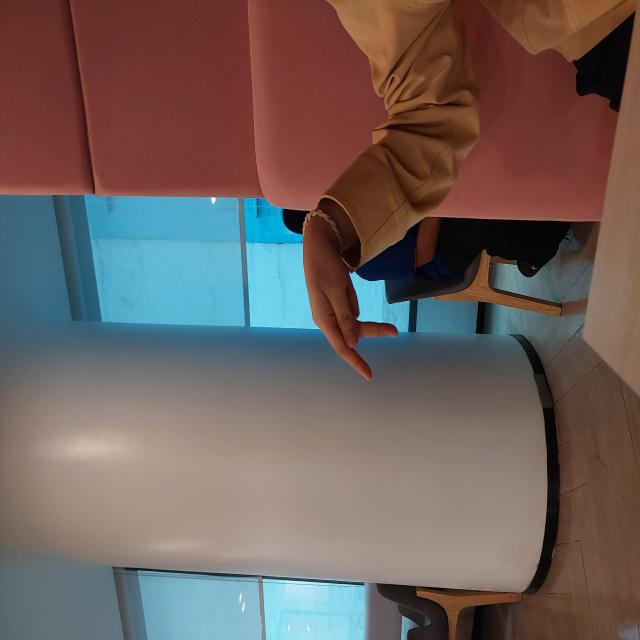P: (252, 298, 437, 402)
